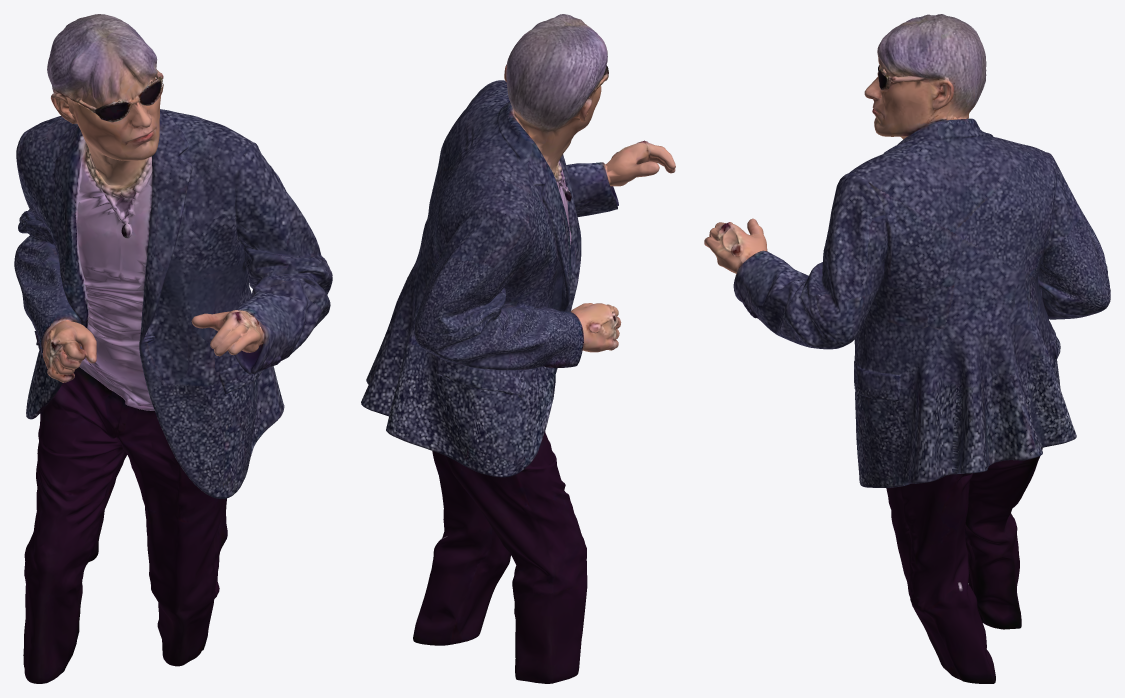
Rendered from andre.glb.
3 views of the same model, side by side, from view 1: azimuth 30°, elevation 25°; view 2: azimuth 150°, elevation 25°; view 3: azimuth 270°, elevation 25° (orthographic). The views are drawn at different scales.
Visible parts, largest first — view 1: tripo_node_8ab1d75a-89d4-4a36-8fbe-2e584a42e463; view 2: tripo_node_8ab1d75a-89d4-4a36-8fbe-2e584a42e463; view 3: tripo_node_8ab1d75a-89d4-4a36-8fbe-2e584a42e463.
Part boxes in pixels (bbox=[...]): tripo_node_8ab1d75a-89d4-4a36-8fbe-2e584a42e463: bbox=[14, 14, 332, 683]; tripo_node_8ab1d75a-89d4-4a36-8fbe-2e584a42e463: bbox=[361, 14, 675, 683]; tripo_node_8ab1d75a-89d4-4a36-8fbe-2e584a42e463: bbox=[704, 14, 1110, 683].
Bounding box in the file's own units: 0.3681 × 0.9776 × 0.5892.
1 material, 1 textured.
